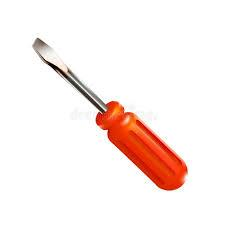screwdriver: (31, 34, 188, 190)
